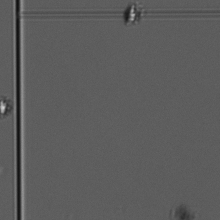Living Cell: (123, 4, 144, 26), (1, 95, 12, 119)
